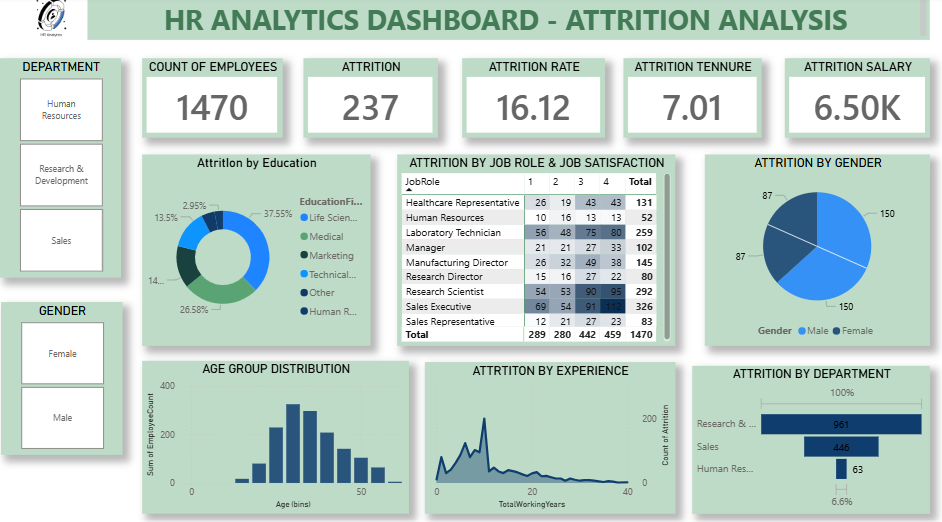

The dashboard page shown, as its layout file describes it:
{"tool":"powerbi","page":{"name":"Page 1","canvas":[1280,720],"ordinal":0},"visuals":[{"type":"textbox","box":[118,0,1136.4,59],"z":0},{"type":"cardVisual","title":"COUNT OF EMPLOYEES","fields":{"Data":["WA_Fn-UseC_-HR-Employee-Attriti.Total Employees"]},"box":[192.2,84.3,188.8,106.2],"z":1000},{"type":"cardVisual","title":"ATTRITION","fields":{"Data":["WA_Fn-UseC_-HR-Employee-Attriti.Total Attrited"]},"box":[409.7,84.3,180.4,106.2],"z":2000},{"type":"cardVisual","title":"ATTRITION RATE","fields":{"Data":["WA_Fn-UseC_-HR-Employee-Attriti.Attrition Rate %"]},"box":[623.8,84.3,192.2,106.2],"z":3000},{"type":"cardVisual","title":"ATTRITION TENNURE","fields":{"Data":["WA_Fn-UseC_-HR-Employee-Attriti.Avg Tenure"]},"box":[841.3,84.3,185.5,106.2],"z":4000},{"type":"cardVisual","title":"ATTRITION SALARY","fields":{"Data":["WA_Fn-UseC_-HR-Employee-Attriti.Avg Monthly Income"]},"box":[1058.8,84.3,195.6,106.2],"z":5000},{"type":"donutChart","title":"AttritIon  by Education","fields":{"Category":["WA_Fn-UseC_-HR-Employee-Attriti.EducationField","WA_Fn-UseC_-HR-Employee-Attriti.YearsAtCompany"],"Y":["WA_Fn-UseC_-HR-Employee-Attriti.Total Attrited"]},"box":[192.2,214.1,306.9,258],"z":6000},{"type":"pivotTable","title":"ATTRITION BY JOB ROLE & JOB SATISFACTION","fields":{"Rows":["WA_Fn-UseC_-HR-Employee-Attriti.JobRole"],"Columns":["WA_Fn-UseC_-HR-Employee-Attriti.JobSatisfaction"],"Values":["CountNonNull(WA_Fn-UseC_-HR-Employee-Attriti.Attrition)"]},"box":[536.2,214.1,374.3,258],"z":7000},{"type":"clusteredColumnChart","title":"AGE GROUP DISTRIBUTION","fields":{"Y":["Sum(WA_Fn-UseC_-HR-Employee-Attriti.EmployeeCount)"],"Category":["WA_Fn-UseC_-HR-Employee-Attriti.Age (bins)"]},"box":[192.2,492.3,359.1,205.7],"z":8000},{"type":"pieChart","title":"ATTRITION BY GENDER","fields":{"Category":["WA_Fn-UseC_-HR-Employee-Attriti.Gender"],"Series":["WA_Fn-UseC_-HR-Employee-Attriti.Attrition"],"Y":["WA_Fn-UseC_-HR-Employee-Attriti.Total Attrited"]},"box":[950.9,214.1,303.5,258],"z":9000},{"type":"areaChart","title":"ATTRTITON BY EXPERIENCE","fields":{"Category":["WA_Fn-UseC_-HR-Employee-Attriti.TotalWorkingYears"],"Y2":["CountNonNull(WA_Fn-UseC_-HR-Employee-Attriti.Attrition)"]},"box":[573.2,494,337.2,204],"z":10000},{"type":"funnel","title":"ATTRITION BY DEPARTMENT","fields":{"Category":["WA_Fn-UseC_-HR-Employee-Attriti.Department"],"Y":["WA_Fn-UseC_-HR-Employee-Attriti.COUNT OF EMPLOYEES"]},"box":[934.1,499.1,320.3,198.9],"z":11000},{"type":"slicer","title":"DEPARTMENT","fields":{"Values":["WA_Fn-UseC_-HR-Employee-Attriti.Department"]},"box":[0,84.3,163.5,295.1],"z":12000},{"type":"slicer","title":"GENDER","fields":{"Values":["WA_Fn-UseC_-HR-Employee-Attriti.Gender"]},"box":[1.7,413.1,163.5,205.7],"z":12001},{"type":"image","box":[0,0,138.3,59],"z":12002}]}

Visuals, with their boxes in screenshot pixels (x1, y1, x2, y2), scaled from the page's 1280x720 canvas onto the 942x522 screenshot:
textbox: {"x1": 87, "y1": 0, "x2": 923, "y2": 43}
"COUNT OF EMPLOYEES" cardVisual: {"x1": 141, "y1": 61, "x2": 280, "y2": 138}
"ATTRITION" cardVisual: {"x1": 302, "y1": 61, "x2": 434, "y2": 138}
"ATTRITION RATE" cardVisual: {"x1": 459, "y1": 61, "x2": 601, "y2": 138}
"ATTRITION TENNURE" cardVisual: {"x1": 619, "y1": 61, "x2": 756, "y2": 138}
"ATTRITION SALARY" cardVisual: {"x1": 779, "y1": 61, "x2": 923, "y2": 138}
"AttritIon  by Education" donutChart: {"x1": 141, "y1": 155, "x2": 367, "y2": 342}
"ATTRITION BY JOB ROLE & JOB SATISFACTION" pivotTable: {"x1": 395, "y1": 155, "x2": 670, "y2": 342}
"AGE GROUP DISTRIBUTION" clusteredColumnChart: {"x1": 141, "y1": 357, "x2": 406, "y2": 506}
"ATTRITION BY GENDER" pieChart: {"x1": 700, "y1": 155, "x2": 923, "y2": 342}
"ATTRTITON BY EXPERIENCE" areaChart: {"x1": 422, "y1": 358, "x2": 670, "y2": 506}
"ATTRITION BY DEPARTMENT" funnel: {"x1": 687, "y1": 362, "x2": 923, "y2": 506}
"DEPARTMENT" slicer: {"x1": 0, "y1": 61, "x2": 120, "y2": 275}
"GENDER" slicer: {"x1": 1, "y1": 299, "x2": 122, "y2": 449}
image: {"x1": 0, "y1": 0, "x2": 102, "y2": 43}
